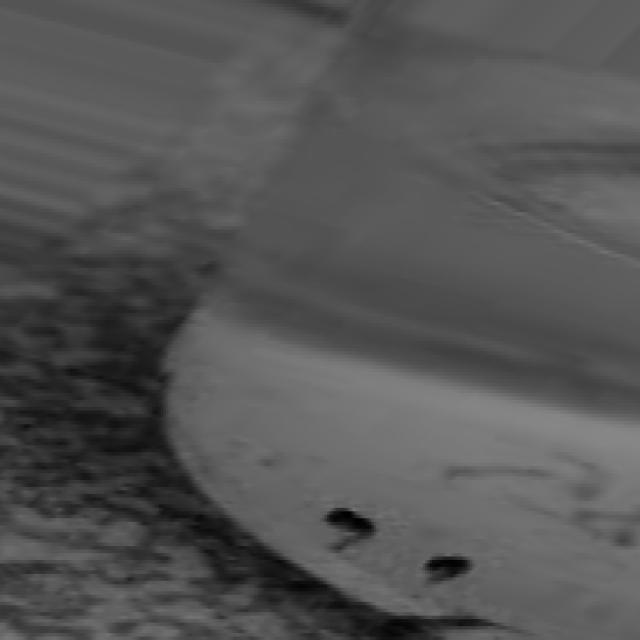larvas: (582, 502, 638, 544), (446, 462, 554, 483), (556, 449, 602, 496), (326, 506, 374, 550), (424, 550, 474, 587)
